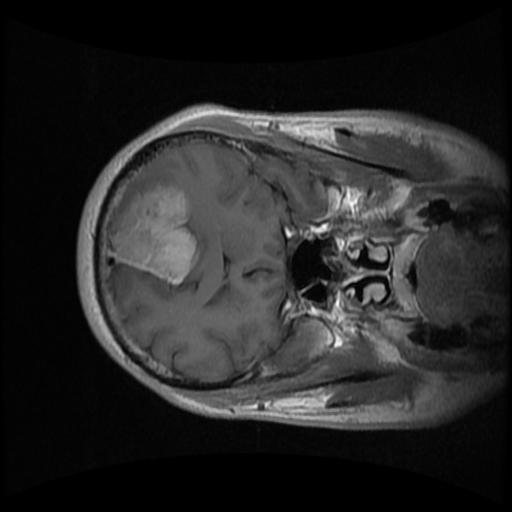meningioma: (109, 183, 196, 286)
